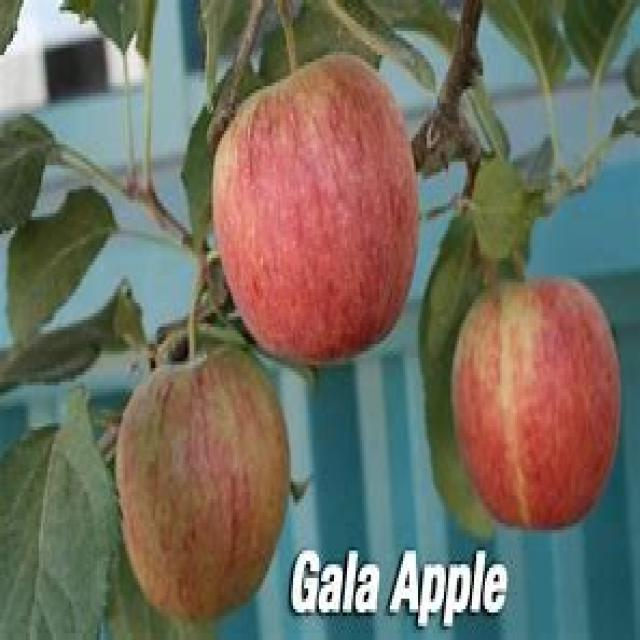apple: (210, 51, 423, 364), (116, 353, 290, 625), (452, 272, 622, 530)
